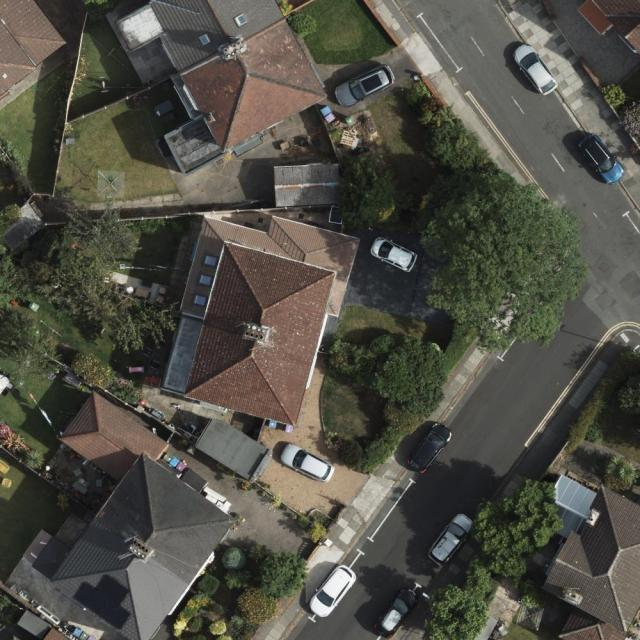roof: (32, 389, 236, 640), (160, 215, 361, 427), (114, 0, 328, 179), (535, 475, 640, 640), (0, 0, 69, 99), (576, 0, 640, 55)
skylight: (232, 10, 250, 28), (196, 32, 212, 48), (203, 253, 217, 268), (194, 294, 207, 305), (199, 273, 209, 287)
